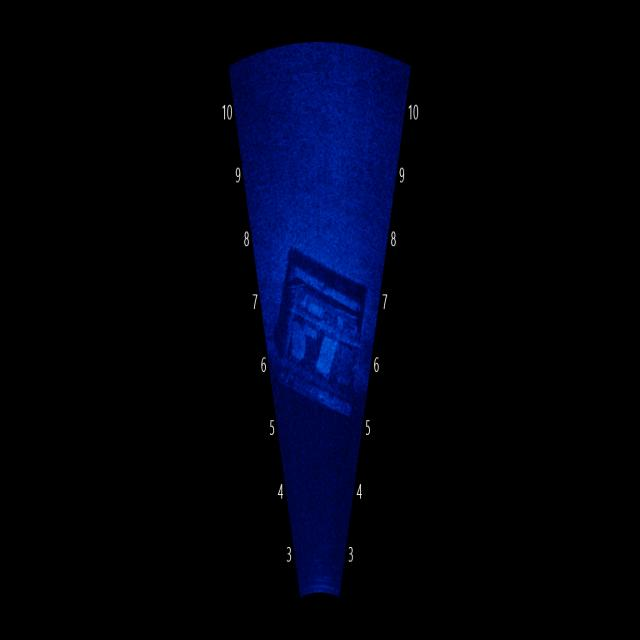square: (264, 235, 373, 424)
